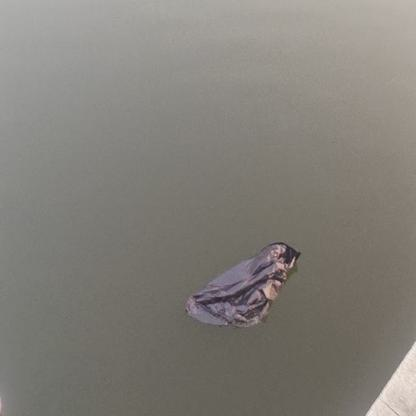plastic bag: (184, 241, 301, 328)
